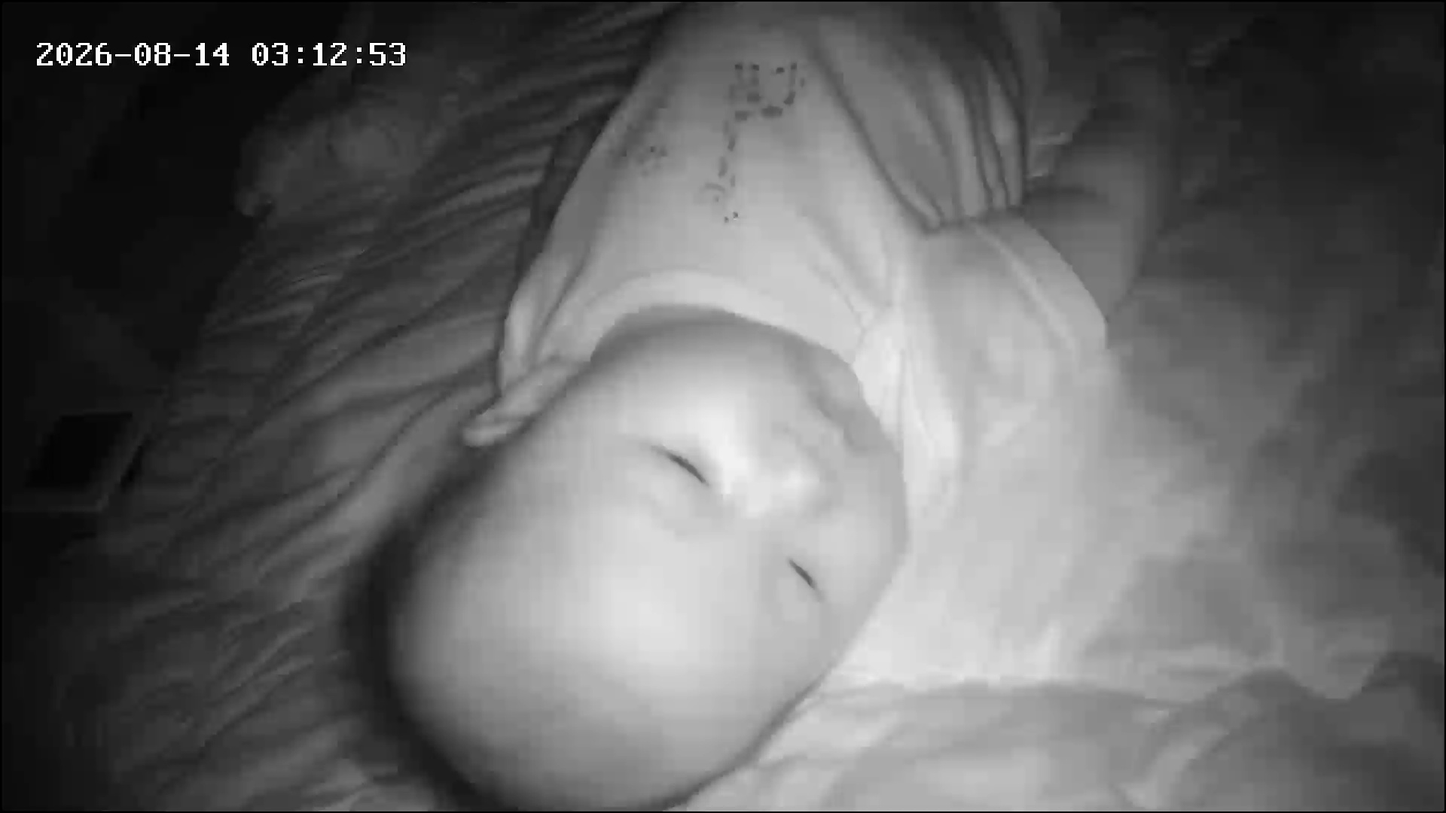baby: (346, 1, 1198, 809)
baby_face: (342, 298, 931, 809)
